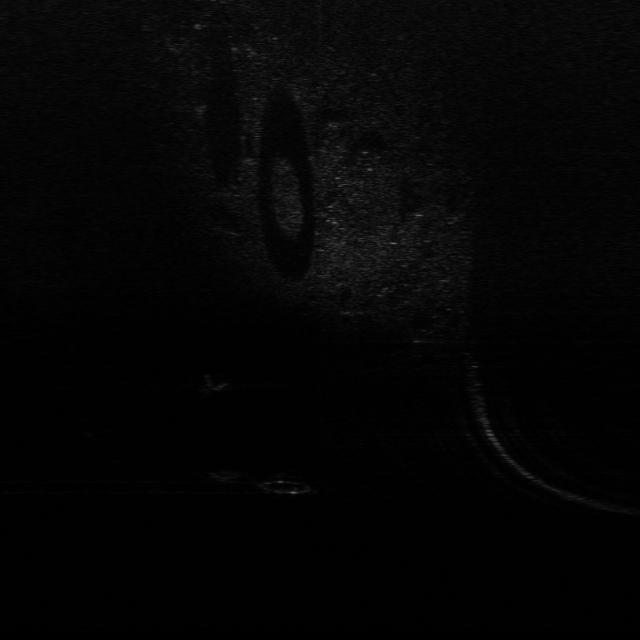cube: (204, 467, 244, 485)
square cage: (196, 371, 233, 393)
tyre: (256, 471, 316, 496)
